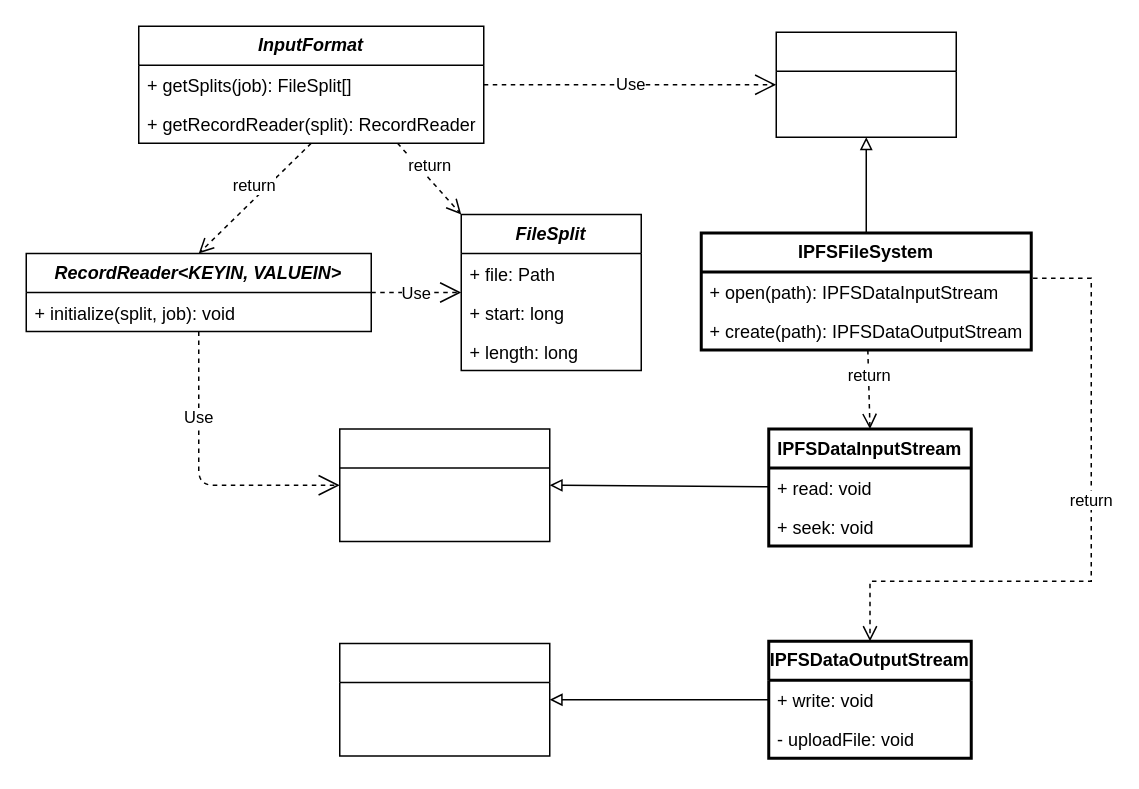
This 1139x789 diagram has some shape labels left out. The centre of each missing label's shape, as x and y in pixels:
"FileSystem" goes at point 865,84.
"InputStream" goes at point 444,485.
"OutputStream" goes at point 444,699.
